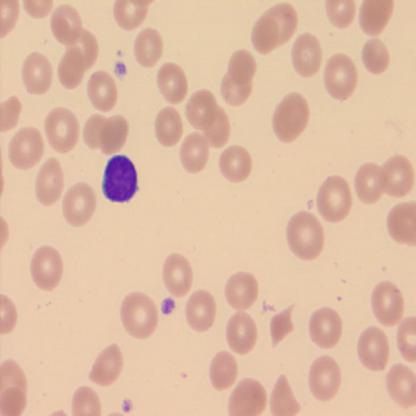Lymphocyte: (101, 156, 138, 203)
